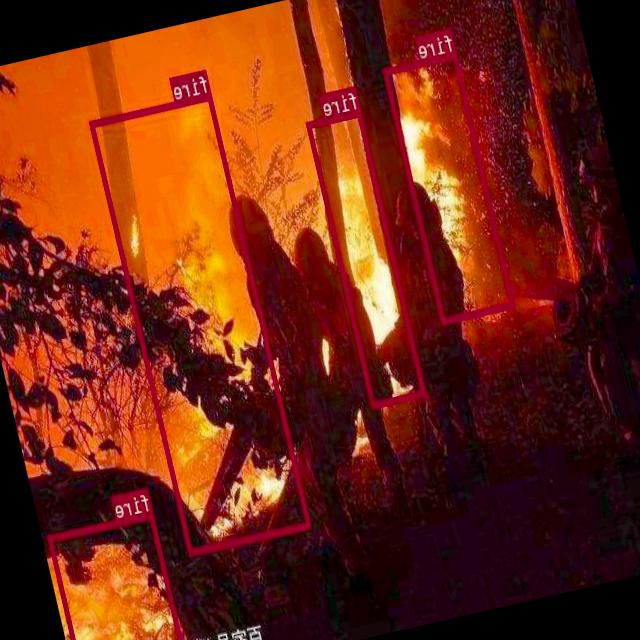fire: (90, 91, 312, 554), (384, 50, 515, 323), (306, 108, 426, 406), (47, 510, 188, 640)
